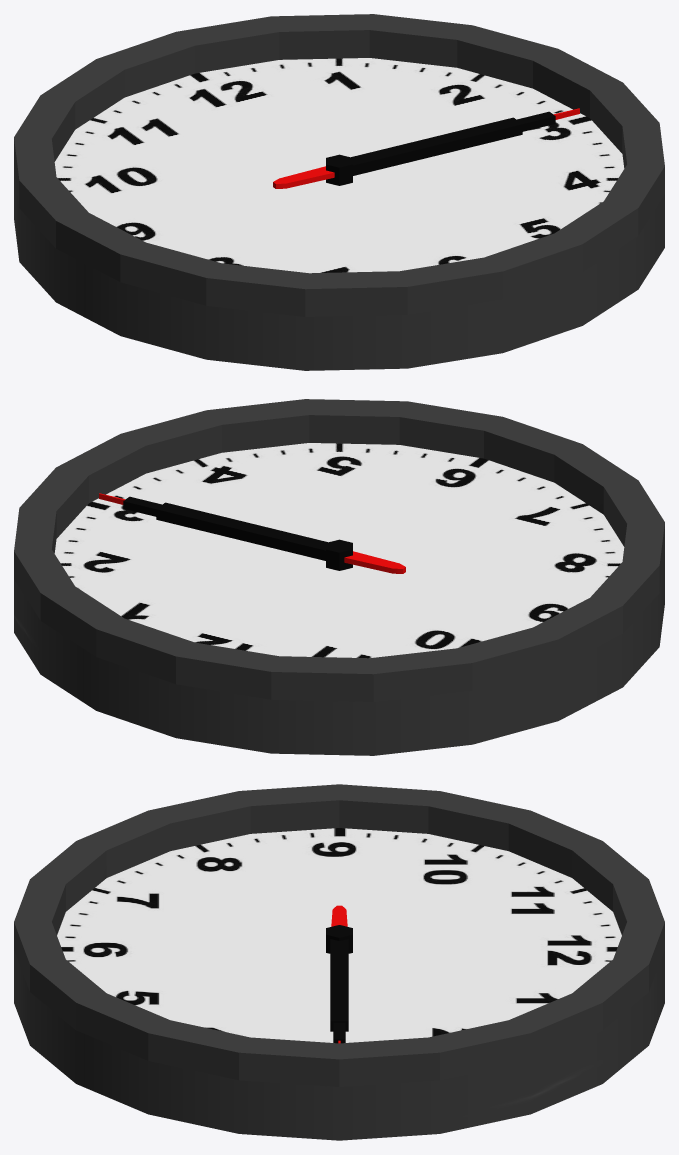
Rendered from Clock.fbx.
3 renders of one model, top to bottom at view 1: azimuth 30°, elevation 25°; view 2: azimuth 150°, elevation 25°; view 3: azimuth 270°, elevation 25°, orthographic.
Visible parts, largest first — view 1: Clock, Hour, Second, Centre; view 2: Clock, Hour, Second, Centre; view 3: Clock, Hour.
Part boxes in pixels (bbox=[...]): Clock: bbox=[14, 14, 664, 370]; Hour: bbox=[351, 117, 522, 175]; Second: bbox=[273, 108, 579, 188]; Centre: bbox=[326, 154, 352, 185]; Clock: bbox=[14, 399, 664, 755]; Hour: bbox=[156, 502, 327, 560]; Second: bbox=[99, 493, 405, 573]; Centre: bbox=[326, 539, 352, 570]; Clock: bbox=[14, 784, 664, 1140]; Hour: bbox=[330, 939, 348, 1031].
Size of the model in its own units: 200 by 27.55 by 200.
1 material, 1 textured.
